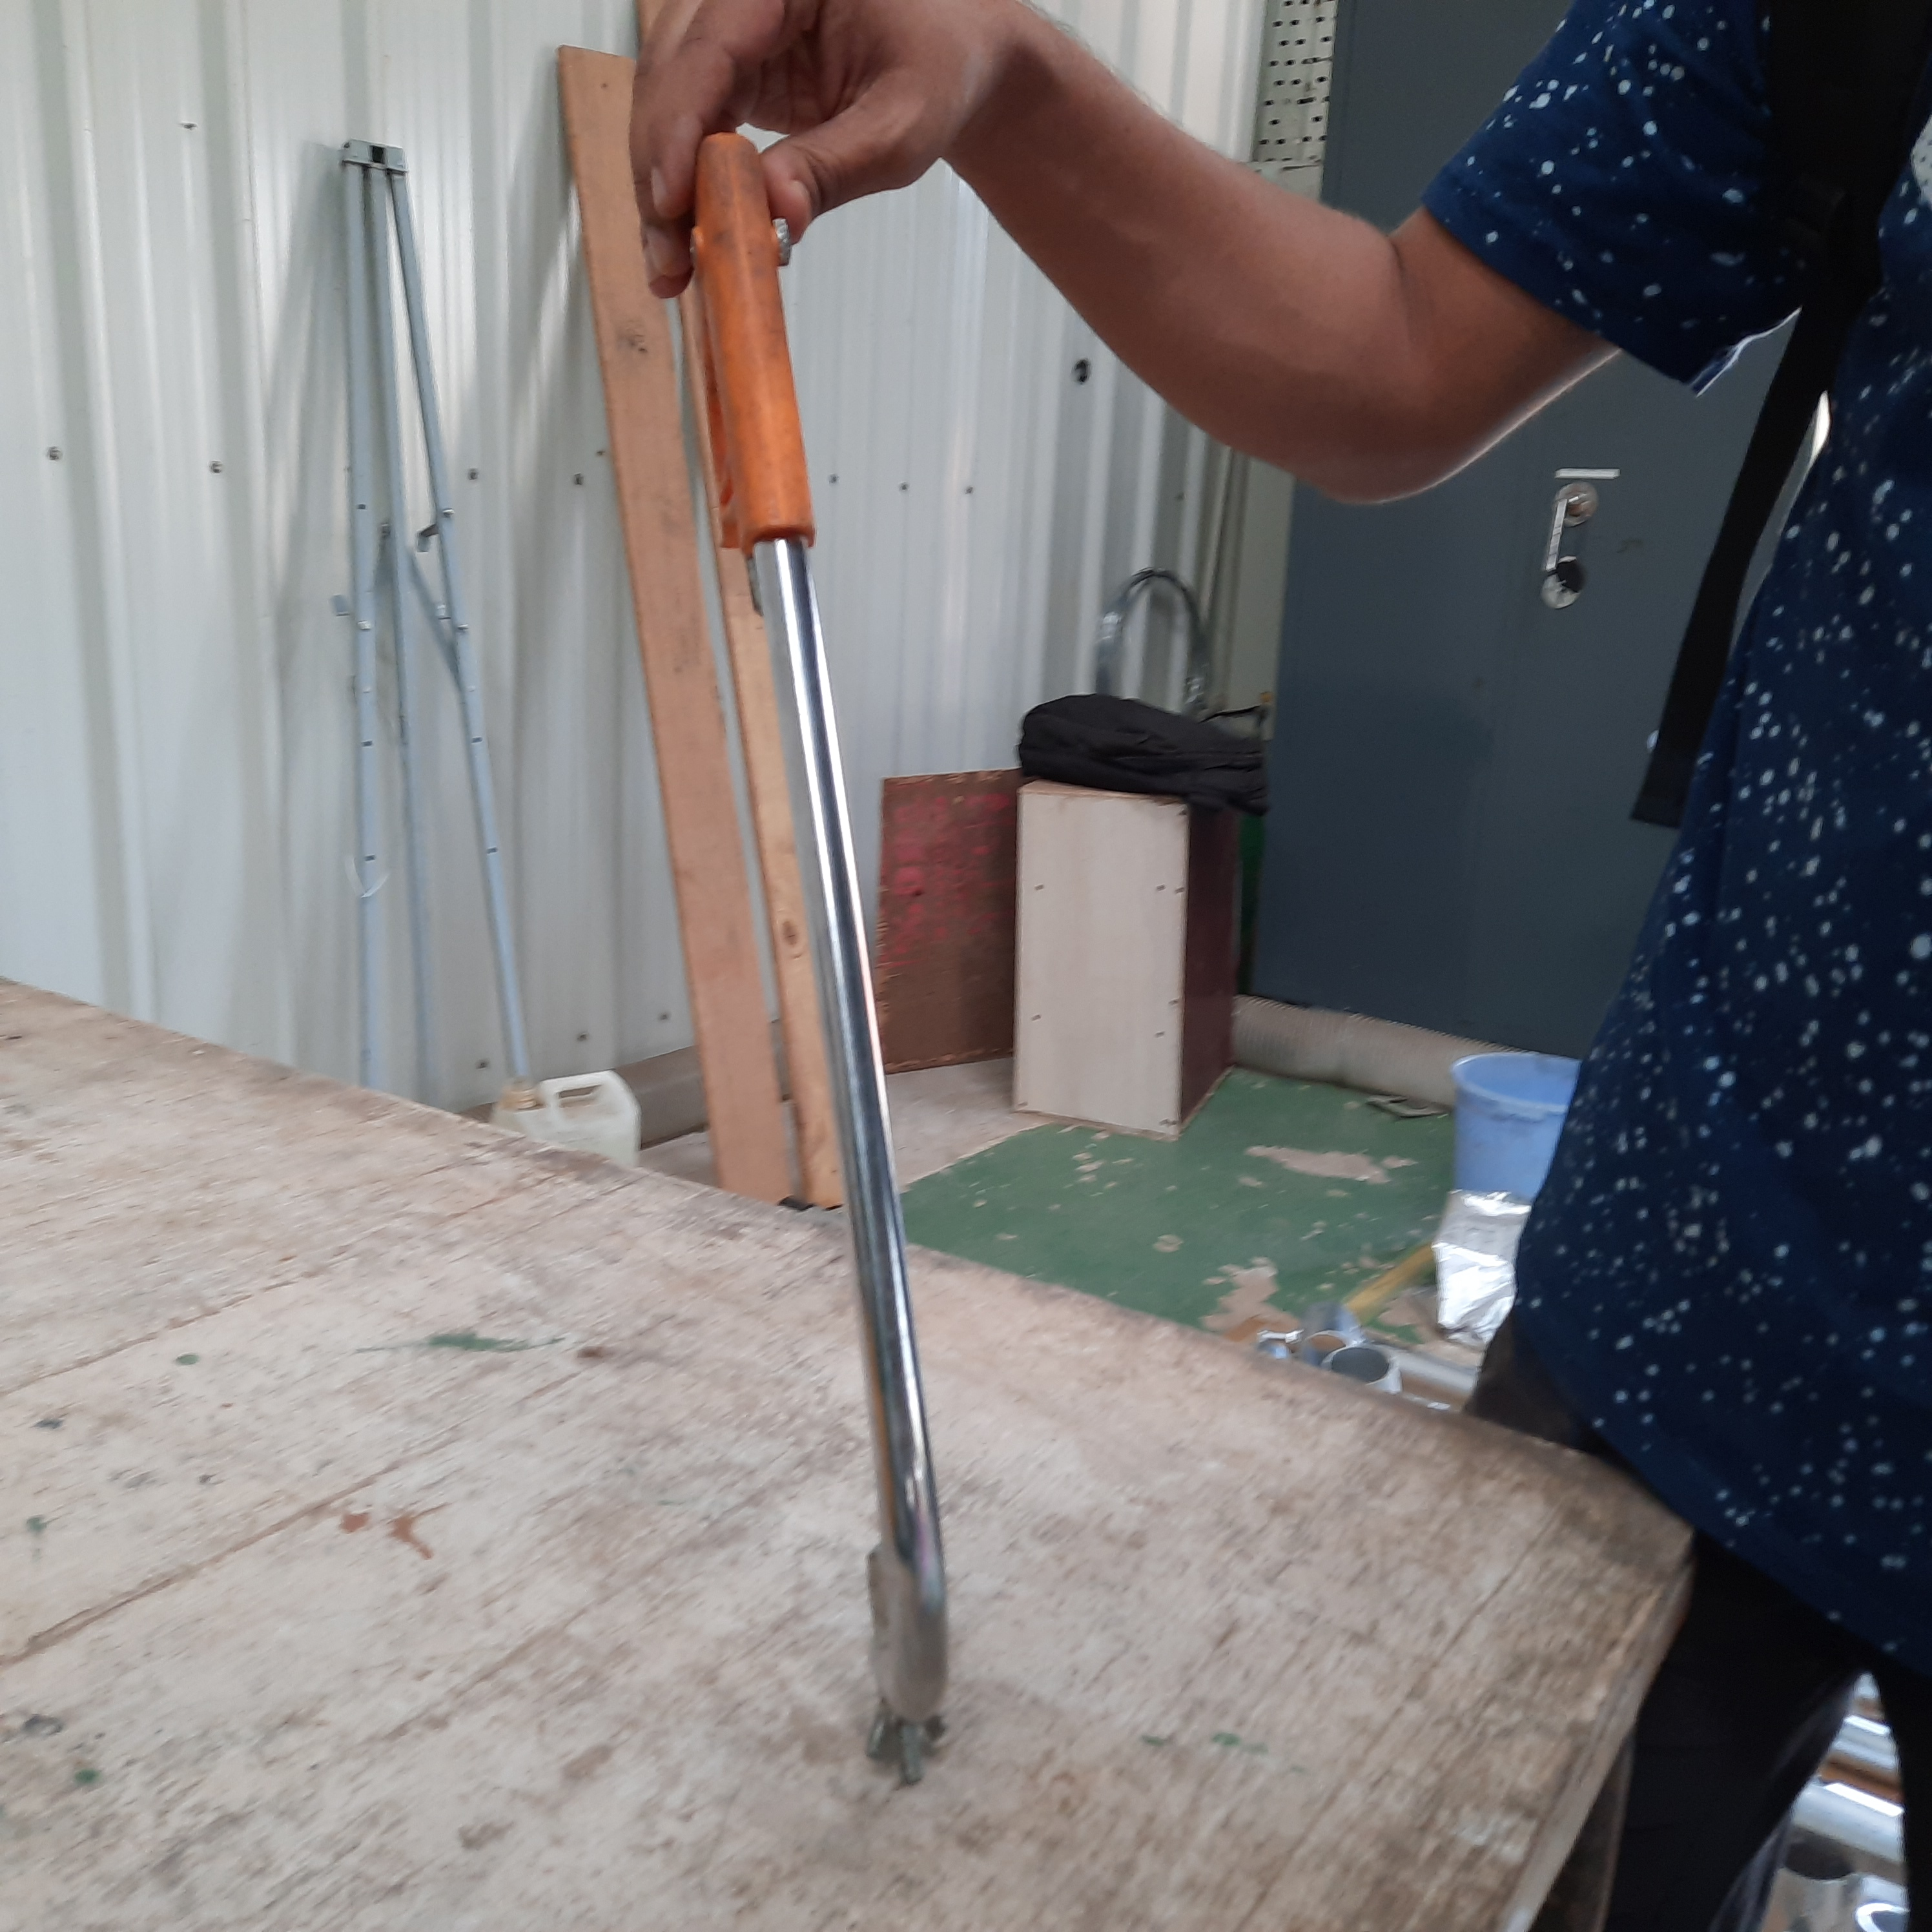Hexaframe: (619, 122, 1093, 1844)
